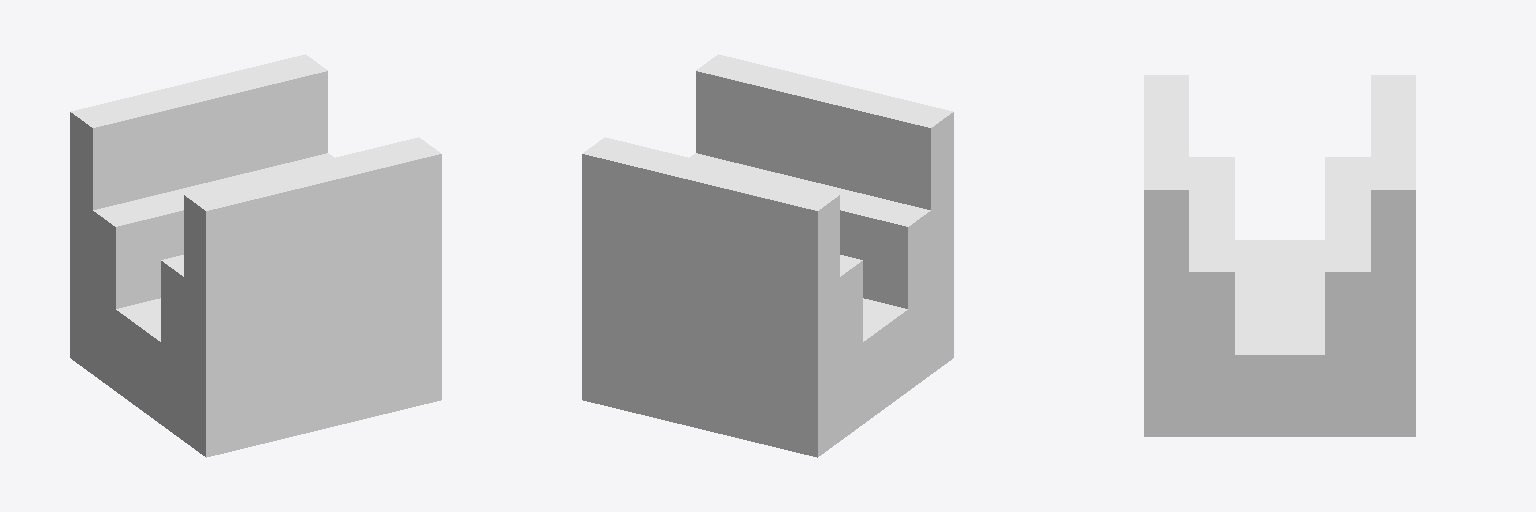
Rendered from RoadBlockB.obj.
3 renders of one model, left to right at view 1: azimuth 30°, elevation 25°; view 2: azimuth 150°, elevation 25°; view 3: azimuth 270°, elevation 25°, orthographic.
Visible parts, largest first — view 1: object 1; view 2: object 1; view 3: object 1.
Boxes of the visible parts, <box> form: object 1: <box>70,54,441,457</box>; object 1: <box>582,54,953,457</box>; object 1: <box>1144,75,1415,436</box>.
Size of the model in its own units: 0.6 by 0.6 by 0.6.